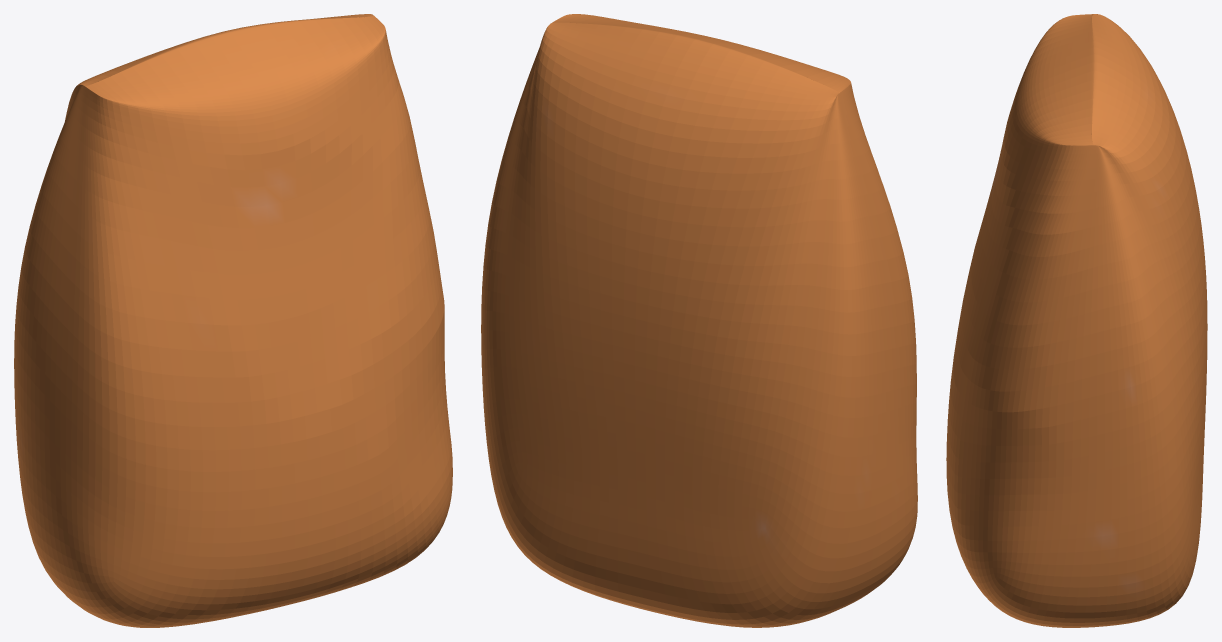
File: fertilizertest.fbx
3 views of the same model, side by side, from view 1: azimuth 30°, elevation 25°; view 2: azimuth 150°, elevation 25°; view 3: azimuth 270°, elevation 25° (orthographic). The views are drawn at different scales.
Parts seen in each view (by area): view 1: Cube; view 2: Cube; view 3: Cube.
Boxes of the visible parts, x1,y1,x2,y2 form: Cube: [14, 14, 452, 627]; Cube: [481, 14, 917, 627]; Cube: [946, 14, 1207, 627].
Bounding box in the file's own units: 144 × 198 × 90.8.
